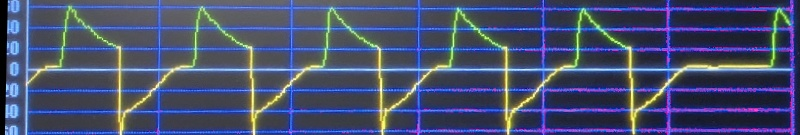normal_flow: (48, 0, 644, 135)
